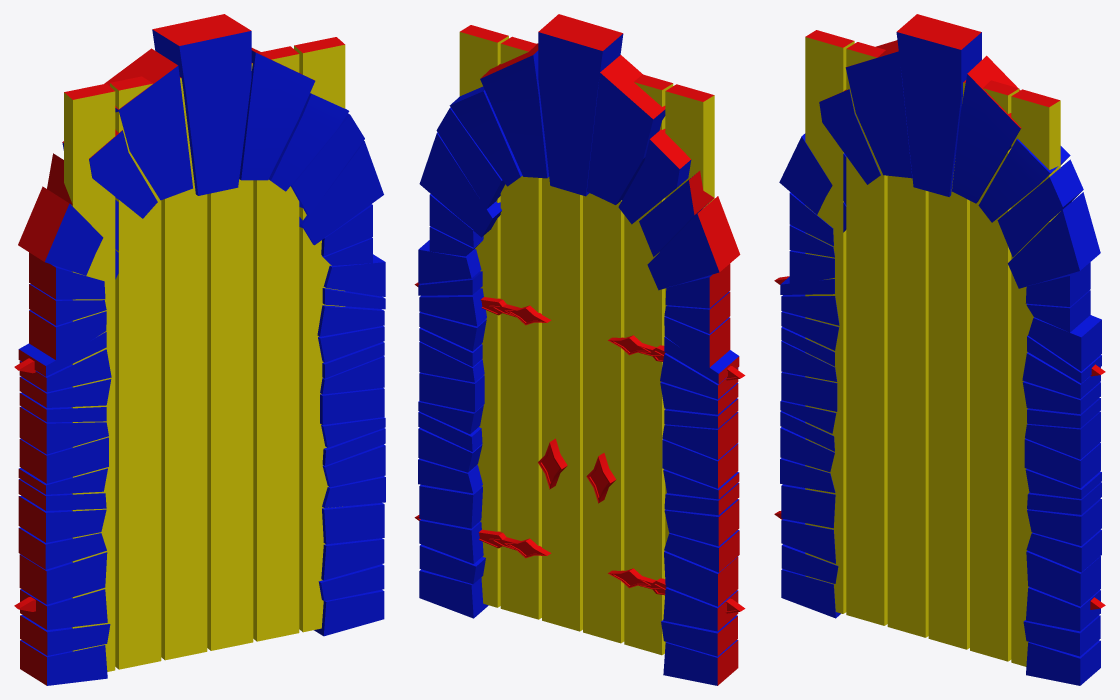
The model's file is deur.fbx.
The picture shows the model from 3 angles, left to right: view 1: azimuth 30°, elevation 25°; view 2: azimuth 150°, elevation 25°; view 3: azimuth 330°, elevation 25°; orthographic projection. The views are drawn at different scales.
Parts seen in each view (by area): view 1: Cube.004; view 2: Cube.004; view 3: Cube.004.
Boxes of the visible parts, box(x1,y1,x2,y2) form: Cube.004: box(14, 14, 385, 685); Cube.004: box(414, 14, 745, 685); Cube.004: box(774, 14, 1105, 685).
Size of the model in its own units: 106 by 179 by 21.03.
